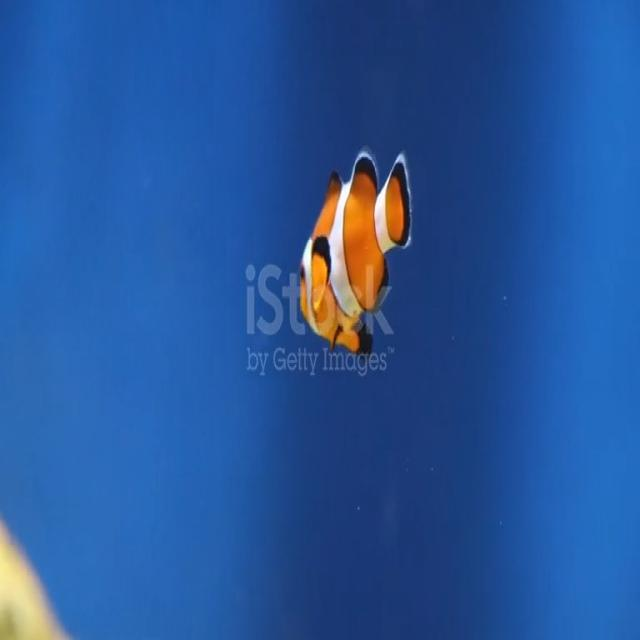fish: (298, 148, 414, 352)
